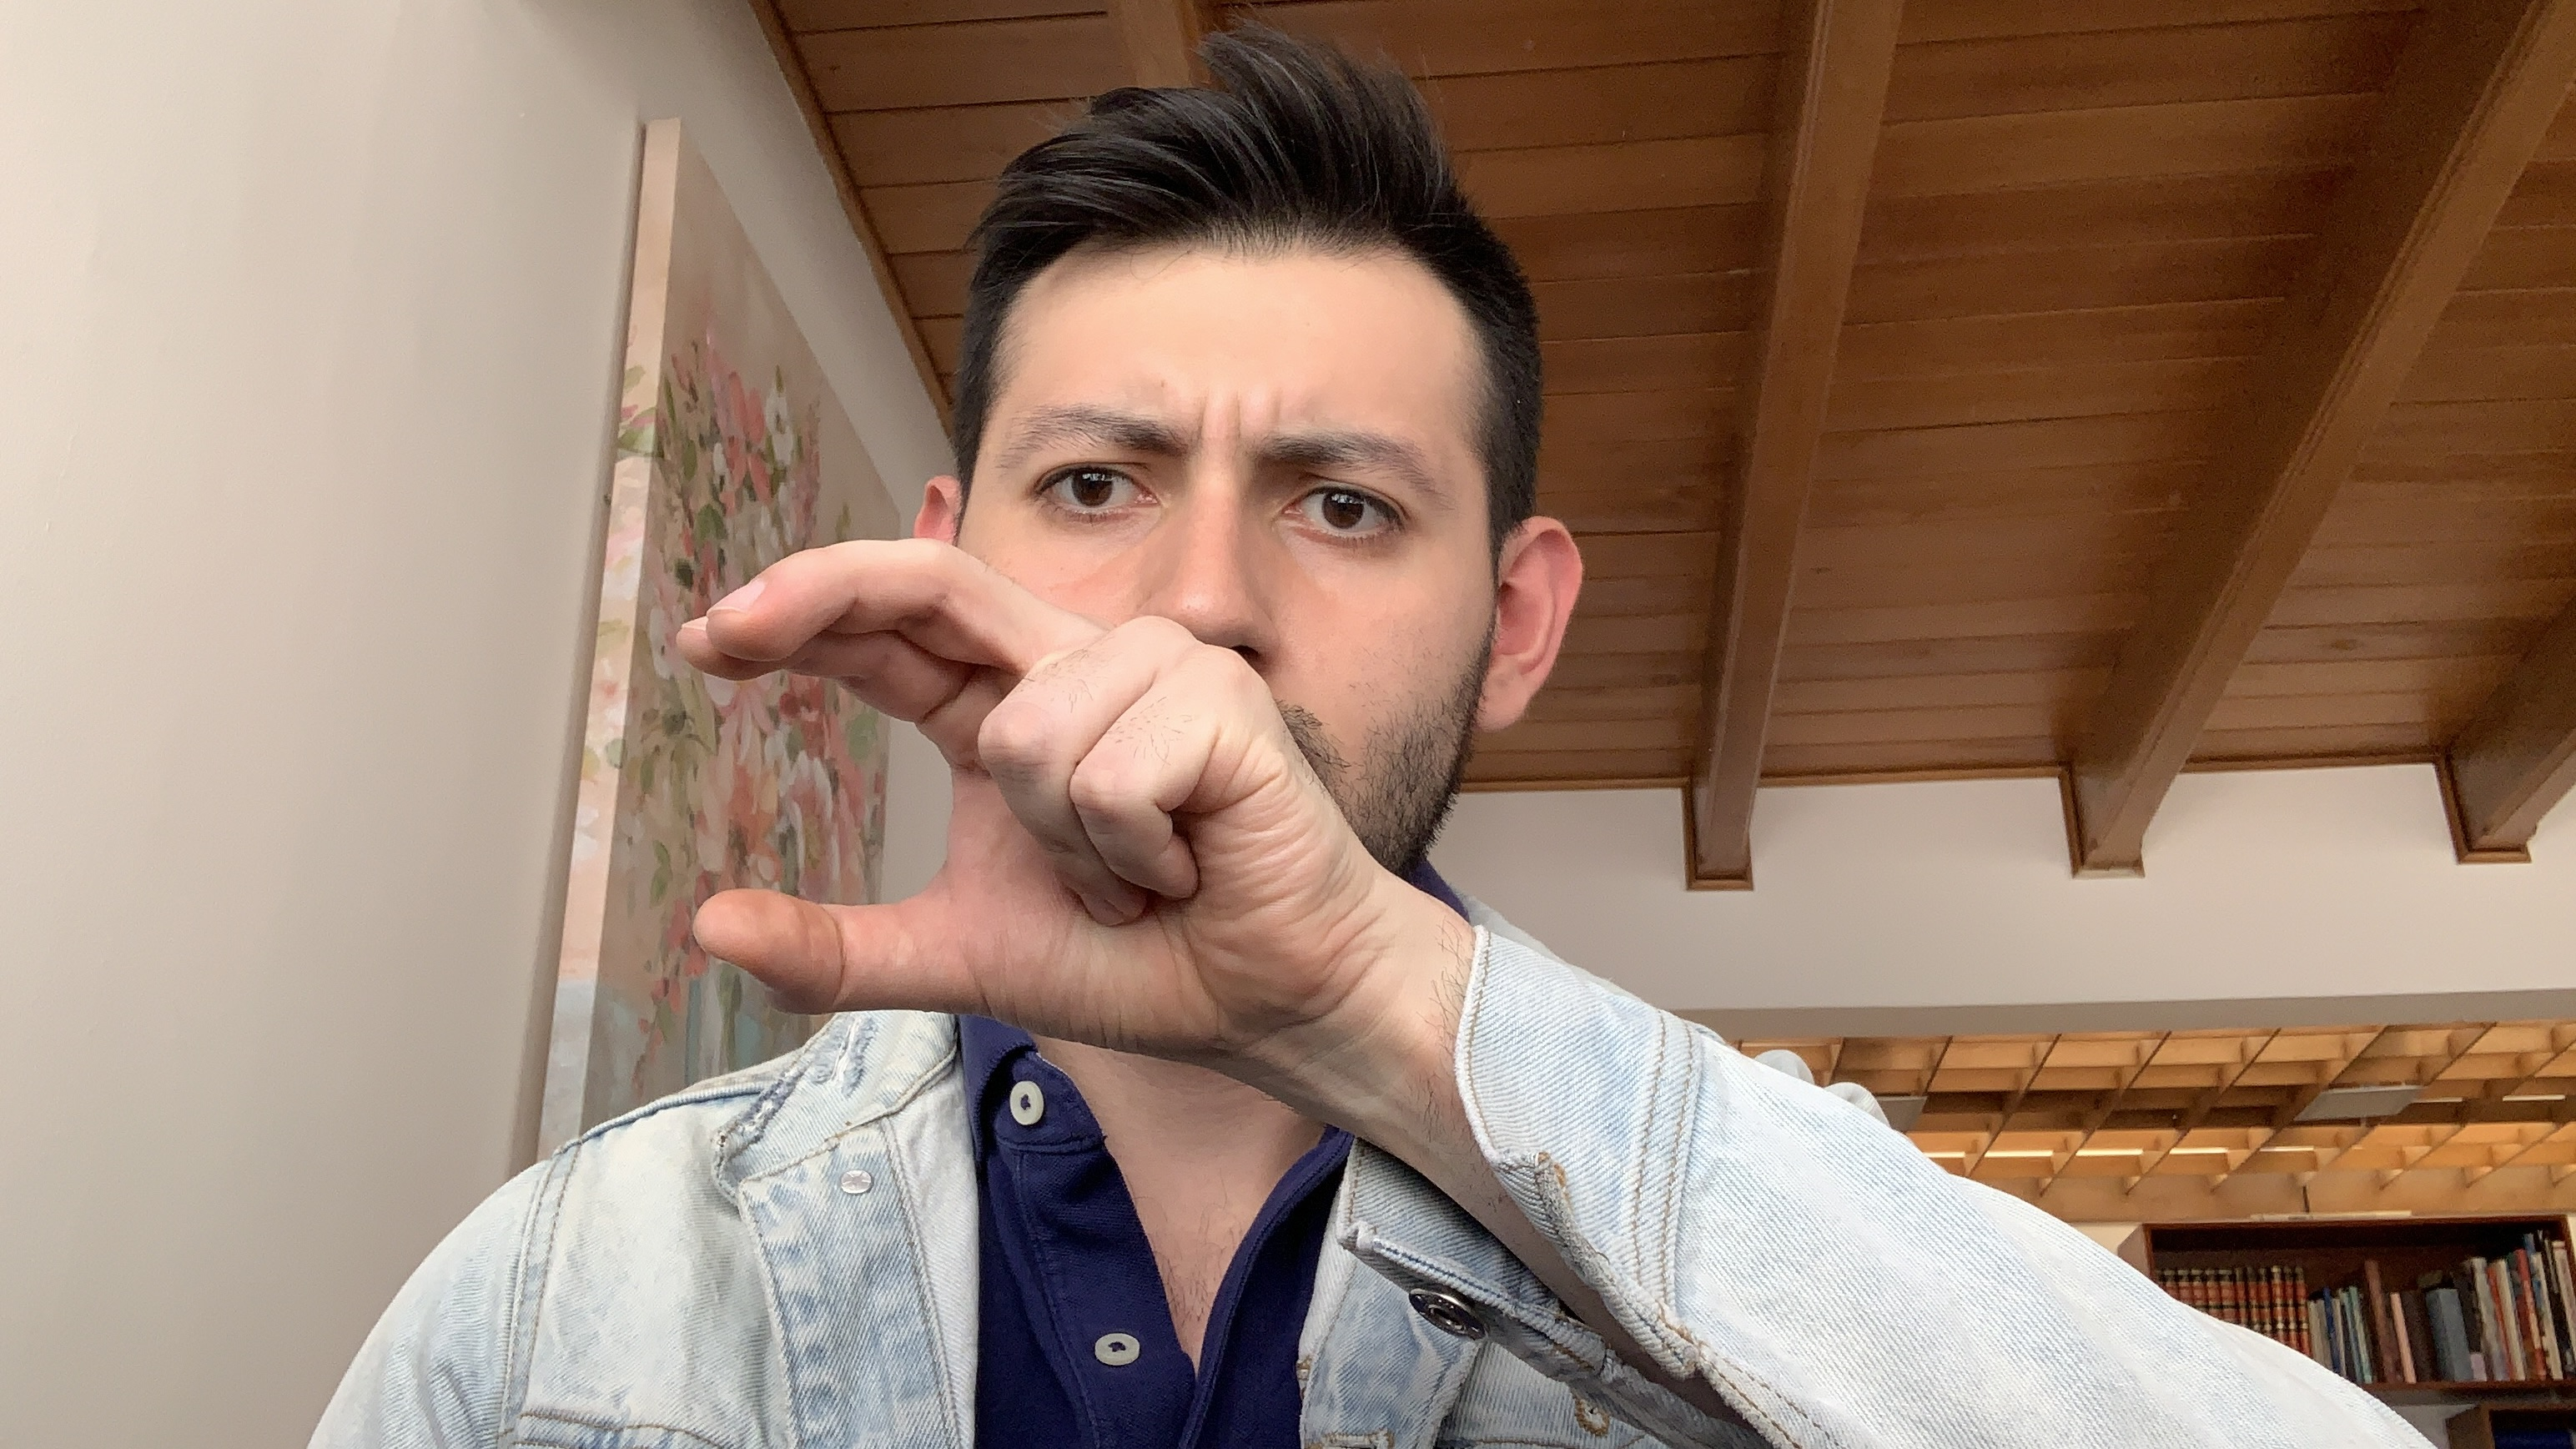No: (665, 520, 1396, 1106)
